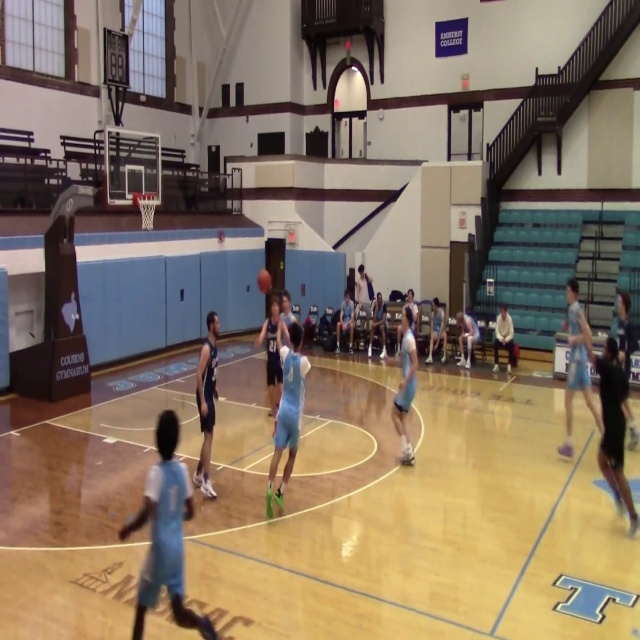Basketball: (256, 269, 272, 294)
